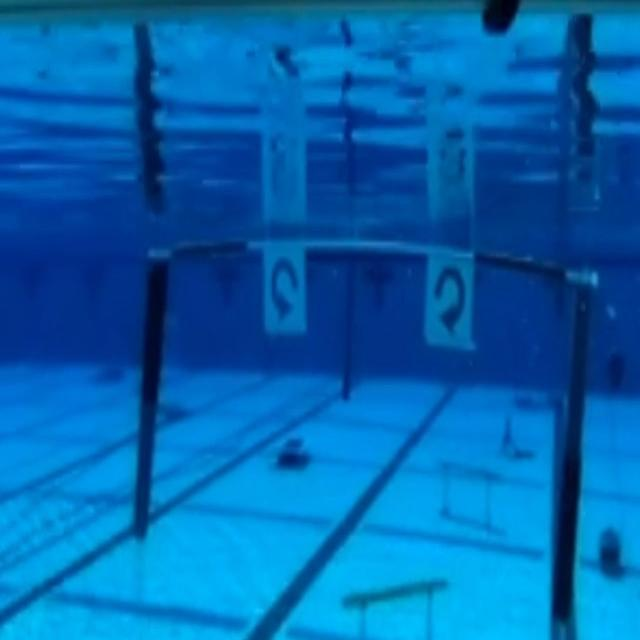Gate: (117, 230, 597, 572)
